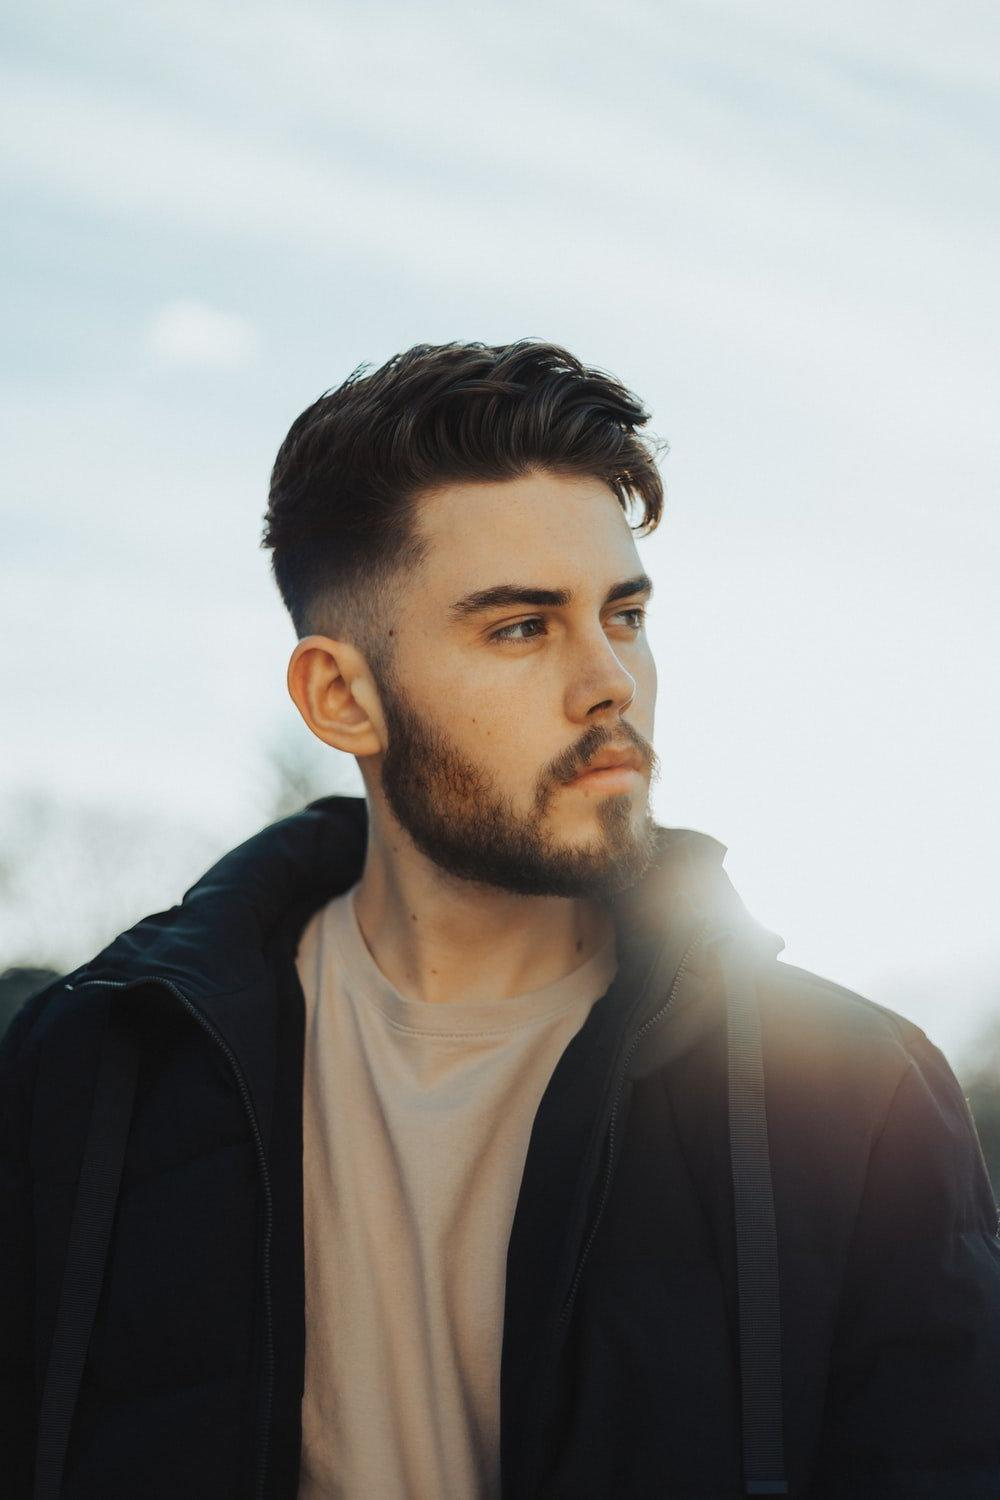Sober: (365, 464, 654, 884)
